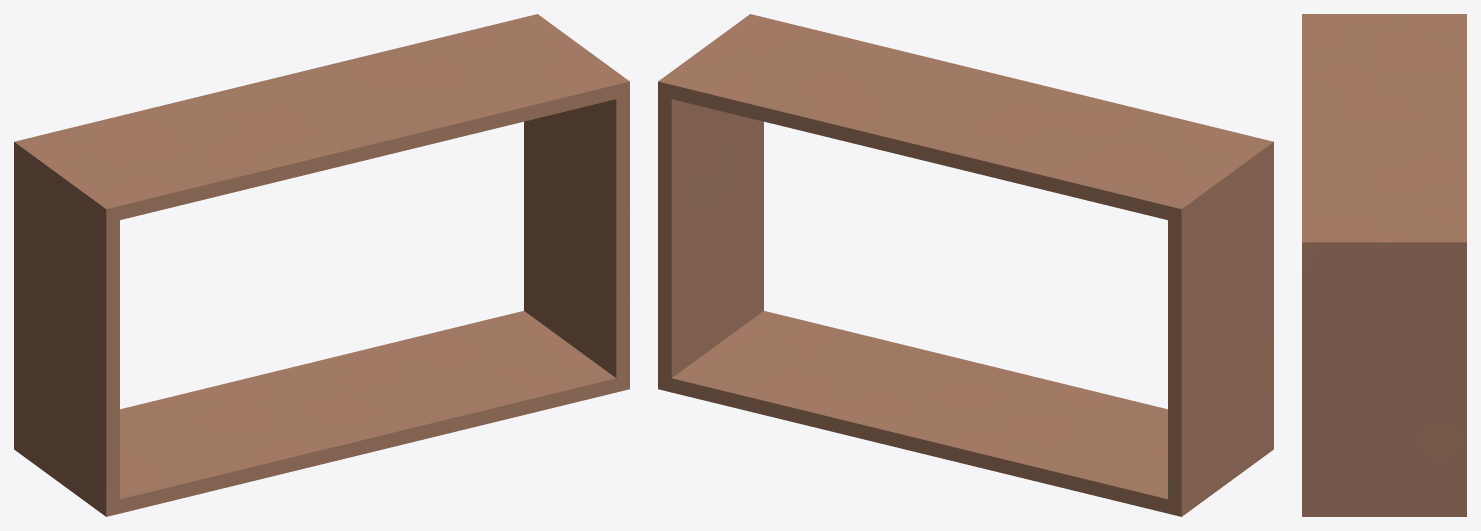
Rendered from Wall_Shelf_01_01.fbx.
The picture shows the model from 3 angles, left to right: view 1: azimuth 30°, elevation 25°; view 2: azimuth 150°, elevation 25°; view 3: azimuth 270°, elevation 25°; orthographic projection. The views are drawn at different scales.
Parts seen in each view (by area): view 1: Wall_Shelf_01_01; view 2: Wall_Shelf_01_01; view 3: Wall_Shelf_01_01.
Part boxes in pixels (x1,y1,x2,y2): Wall_Shelf_01_01: [14, 14, 629, 516]; Wall_Shelf_01_01: [658, 14, 1273, 516]; Wall_Shelf_01_01: [1302, 14, 1466, 516].
Bounding box in the file's own units: 1.31 × 0.7363 × 0.4.
